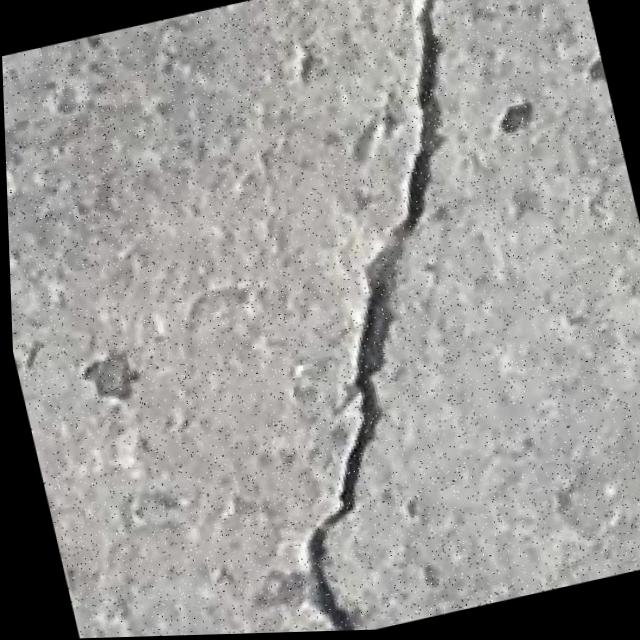Crack: (160, 0, 604, 636)
